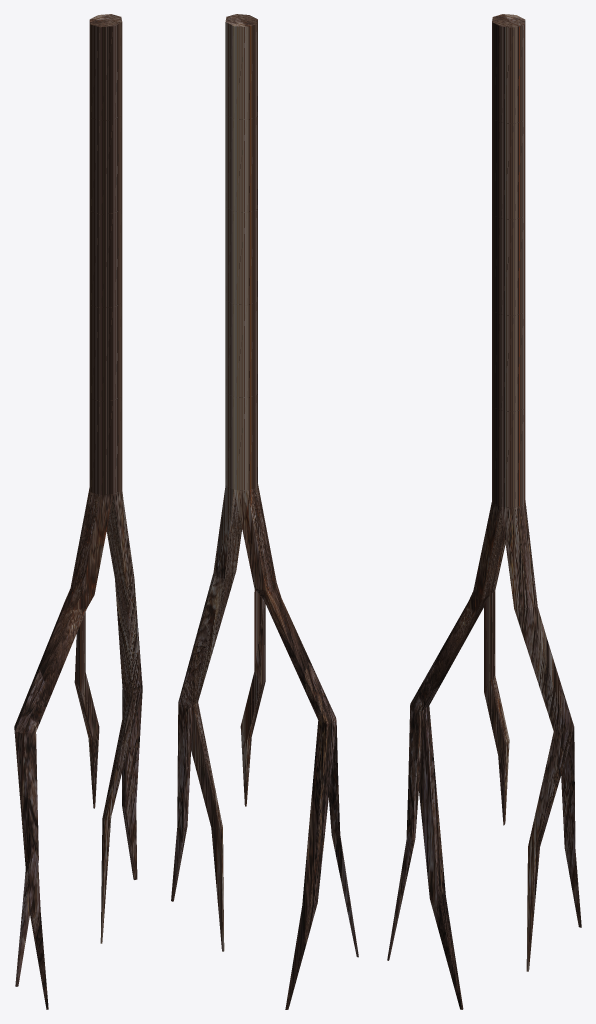
File: wortelroot.FBX
The picture shows the model from 3 angles, left to right: view 1: azimuth 30°, elevation 25°; view 2: azimuth 150°, elevation 25°; view 3: azimuth 330°, elevation 25°; orthographic projection. The views are drawn at different scales.
Parts seen in each view (by area): view 1: Cylinder001; view 2: Cylinder001; view 3: Cylinder001.
Boxes of the visible parts, left/top/right/bottom form: Cylinder001: left=14, top=14, right=142, bottom=1009; Cylinder001: left=171, top=14, right=358, bottom=1009; Cylinder001: left=387, top=14, right=581, bottom=1009.
Bounding box in the file's own units: 21.55 × 130 × 8.69.
Materials: 1 (1 with a texture image).
